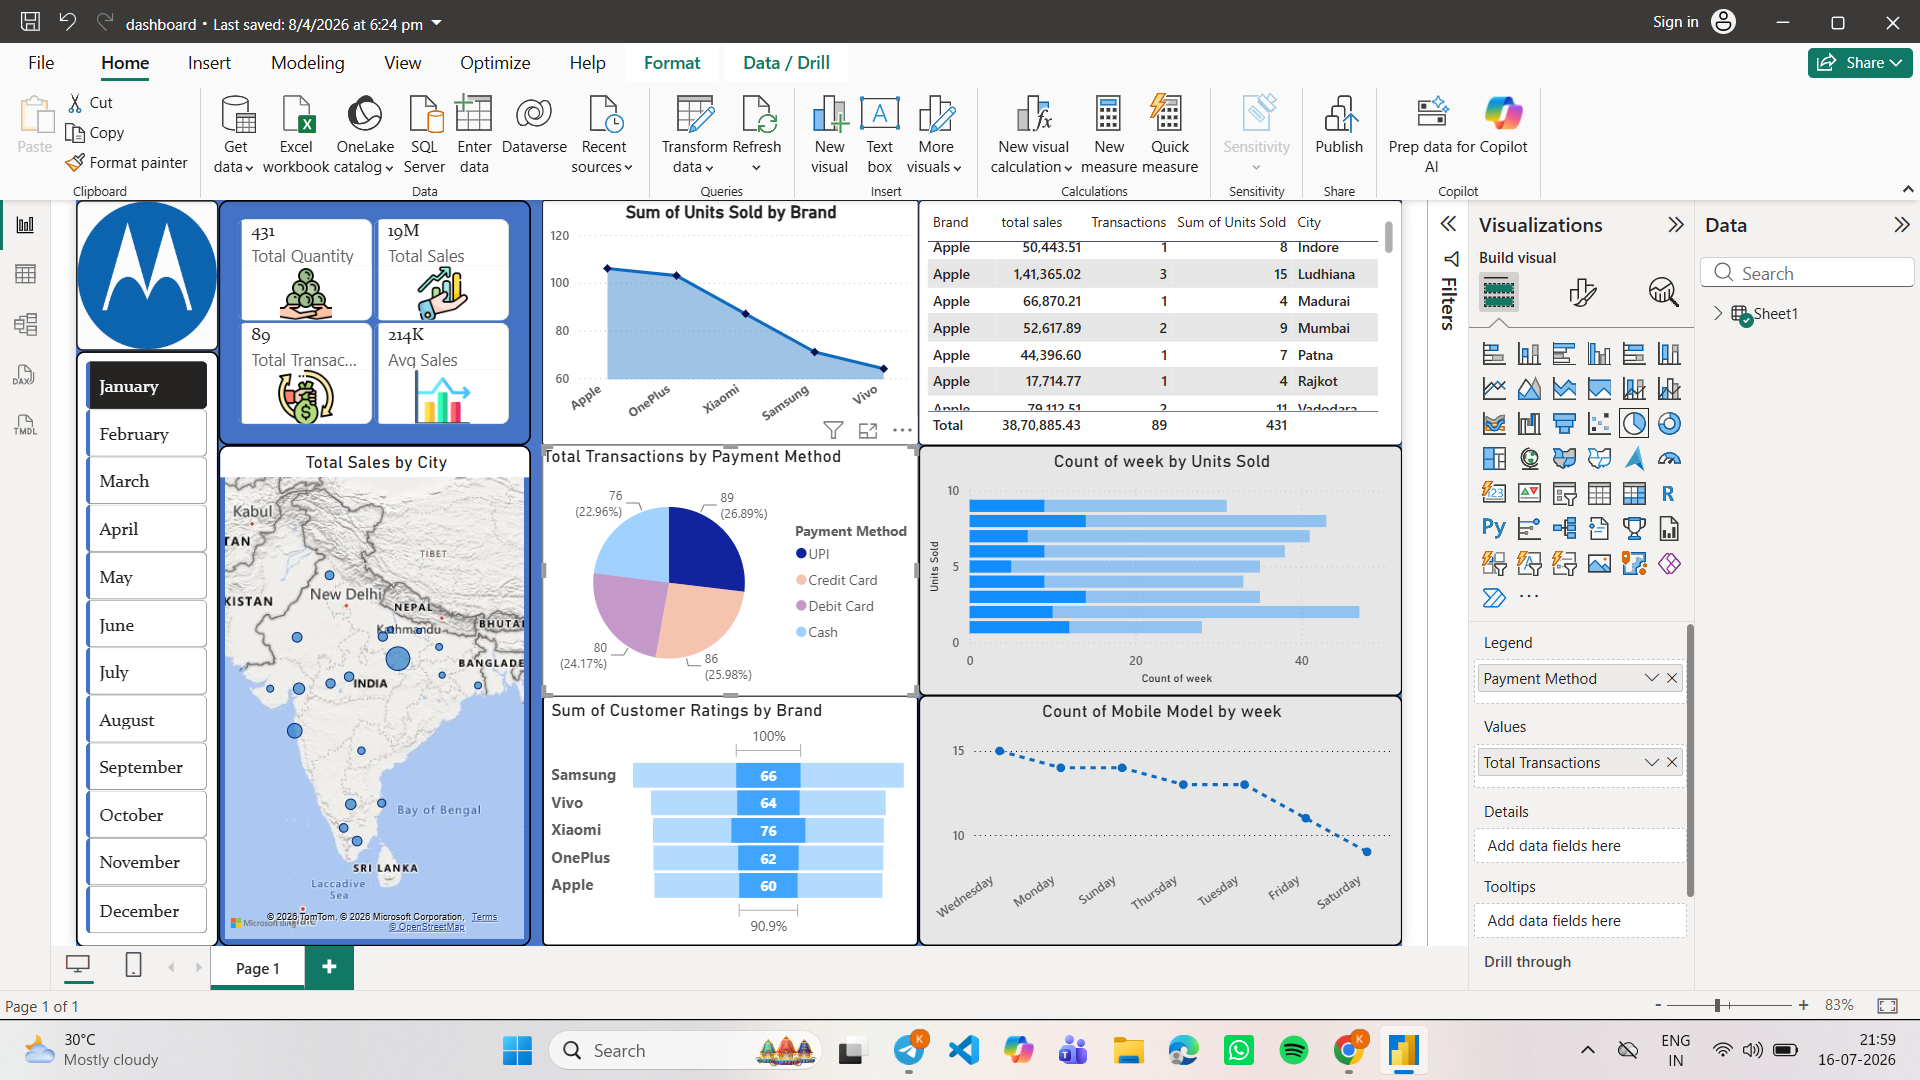

This screenshot's page, from the dashboard's own definition file:
{"tool":"powerbi","page":{"name":"Mobile_Sales_Dashboard.pbix","canvas":[1280,720],"ordinal":0},"visuals":[{"type":"image","box":[0,0,137.2,145.5],"z":0},{"type":"advancedSlicerVisual","fields":{"Values":["Sheet1.Date.Variation.Date Hierarchy.Month"]},"box":[0,145.5,137.2,575],"z":1000},{"type":"cardVisual","fields":{"Data":["Sheet1.Total Quantity","Sheet1.Total Sales","Sheet1.Total Transactions","Sheet1.Avg Sales"]},"box":[137.5,0,301.6,236.5],"z":2000},{"type":"map","title":"Total Sales by City","fields":{"Category":["Sheet1.City"],"Size":["Sheet1.Total Sales"]},"box":[137.5,236.5,301.6,483.8],"z":3000},{"type":"stackedAreaChart","fields":{"Y":["Sum(Sheet1.Units Sold)"],"Category":["Sheet1.Brand"]},"box":[450,0,363.1,236.5],"z":4000},{"type":"pieChart","fields":{"Y":["Sheet1.Total Transactions"],"Category":["Sheet1.Payment Method"]},"box":[450,236.5,363.1,242.5],"z":5000},{"type":"funnel","fields":{"Y":["Sum(Sheet1.Customer Ratings)"],"Category":["Sheet1.Brand"]},"box":[450,477.8,363.1,242.5],"z":6000},{"type":"tableEx","fields":{"Values":["Sheet1.Brand","Sum(Sheet1.Price Per Unit)","Sheet1.Total Transactions","Sum(Sheet1.Units Sold)","Sheet1.City"]},"box":[813.1,0,466.9,236.5],"z":7000},{"type":"clusteredBarChart","fields":{"Y":["CountNonNull(Sheet1.week)"],"Category":["Sheet1.Units Sold"]},"box":[813,236,467,242],"z":8000},{"type":"lineChart","fields":{"Y":["CountNonNull(Sheet1.Mobile Model)"],"Category":["Sheet1.week"]},"box":[813,478,467,242],"z":9000}]}

Visuals, with their boxes on the page's 1280x720 design canvas (x1, y1, x2, y2). These are canvas units, not pixel positions in the 1920x1080 screenshot, which may show the page scaled, cropped or inside an application window:
image: (0, 0, 137, 146)
advancedSlicerVisual - Sheet1.Date.Variation.Date Hierarchy.Month: (0, 146, 137, 720)
cardVisual - Sheet1.Total Quantity x Sheet1.Total Sales: (138, 0, 439, 236)
"Total Sales by City" map: (138, 236, 439, 720)
stackedAreaChart - Sum(Sheet1.Units Sold) x Sheet1.Brand: (450, 0, 813, 236)
pieChart - Sheet1.Total Transactions x Sheet1.Payment Method: (450, 236, 813, 479)
funnel - Sum(Sheet1.Customer Ratings) x Sheet1.Brand: (450, 478, 813, 720)
tableEx - Sheet1.Brand x Sum(Sheet1.Price Per Unit): (813, 0, 1280, 236)
clusteredBarChart - CountNonNull(Sheet1.week) x Sheet1.Units Sold: (813, 236, 1280, 478)
lineChart - CountNonNull(Sheet1.Mobile Model) x Sheet1.week: (813, 478, 1280, 720)
